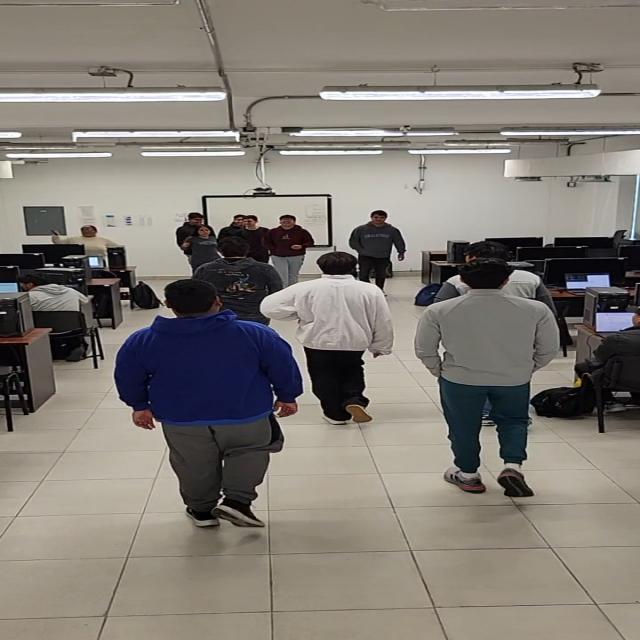Persona: (126, 276, 282, 534), (419, 257, 558, 493), (288, 256, 399, 427), (203, 243, 273, 310), (45, 214, 138, 260), (345, 205, 403, 272), (271, 211, 307, 260), (185, 226, 218, 260), (175, 209, 210, 233), (238, 216, 268, 238)
